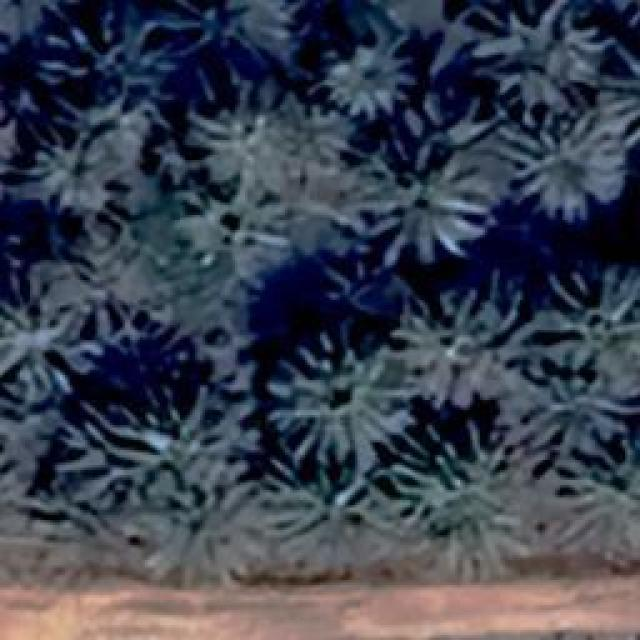PalmTree: (129, 34, 234, 426), (358, 108, 498, 268), (265, 325, 413, 465), (392, 284, 540, 408), (30, 9, 175, 132), (135, 460, 270, 588), (188, 64, 316, 188), (470, 0, 608, 110), (424, 424, 534, 558), (502, 105, 622, 220), (538, 260, 638, 378), (262, 460, 376, 562), (0, 270, 88, 400), (550, 427, 638, 555), (36, 132, 139, 226), (320, 32, 412, 118), (198, 186, 288, 272), (601, 34, 640, 152), (0, 444, 36, 550), (0, 0, 82, 33), (605, 0, 640, 36)
